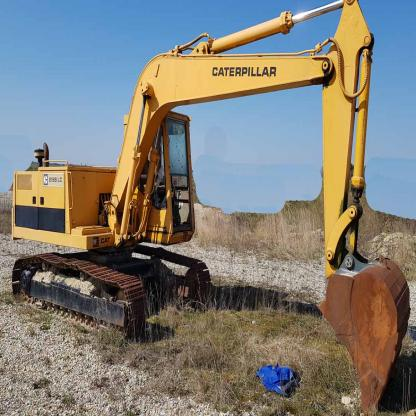excavator: (9, 3, 402, 403)
